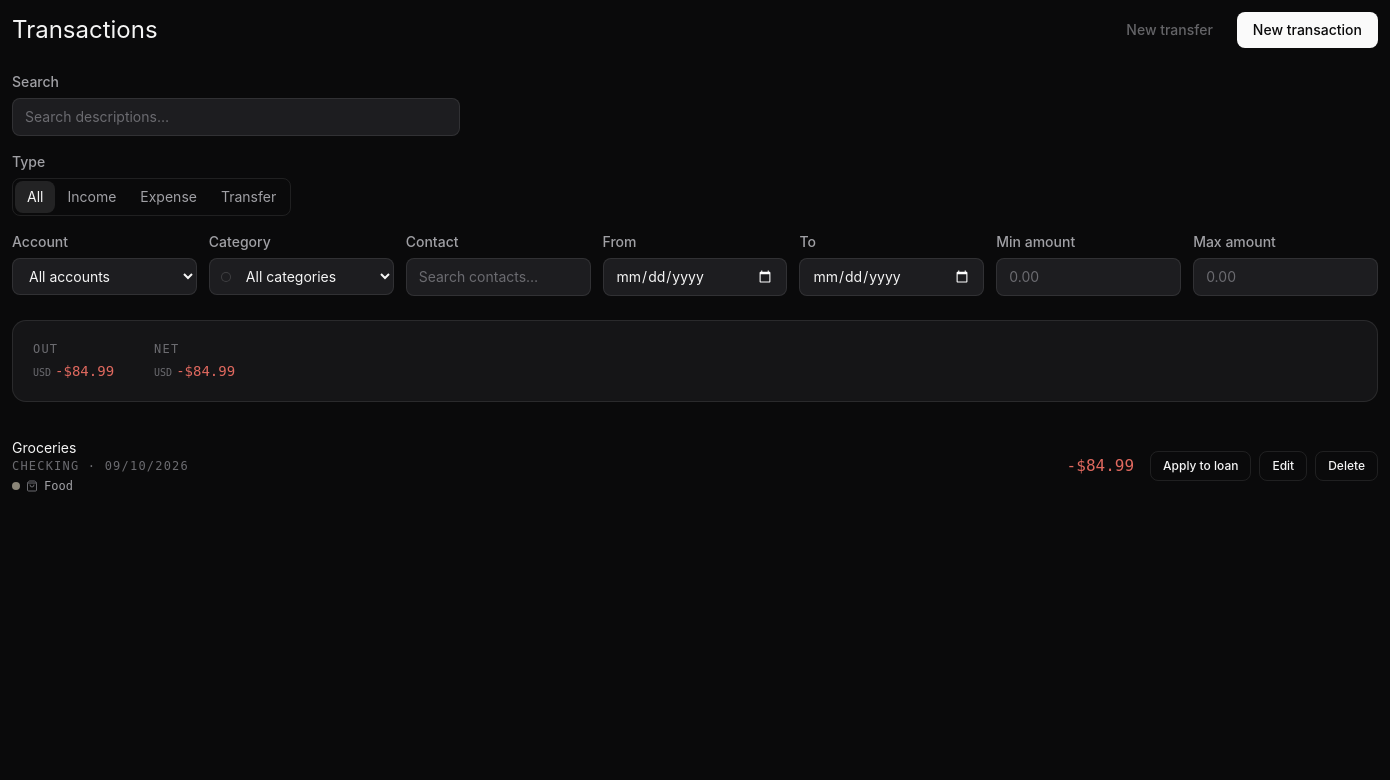
Scenario: TransactionsScreen › soft-deletes a transaction, removing it from the list, and restores it via the toast's Undo action
What coordinates should you click on to do the following:
click the button "Delete"
I would click on:
 (1347, 466)
Its box is [1315, 451, 1378, 481].
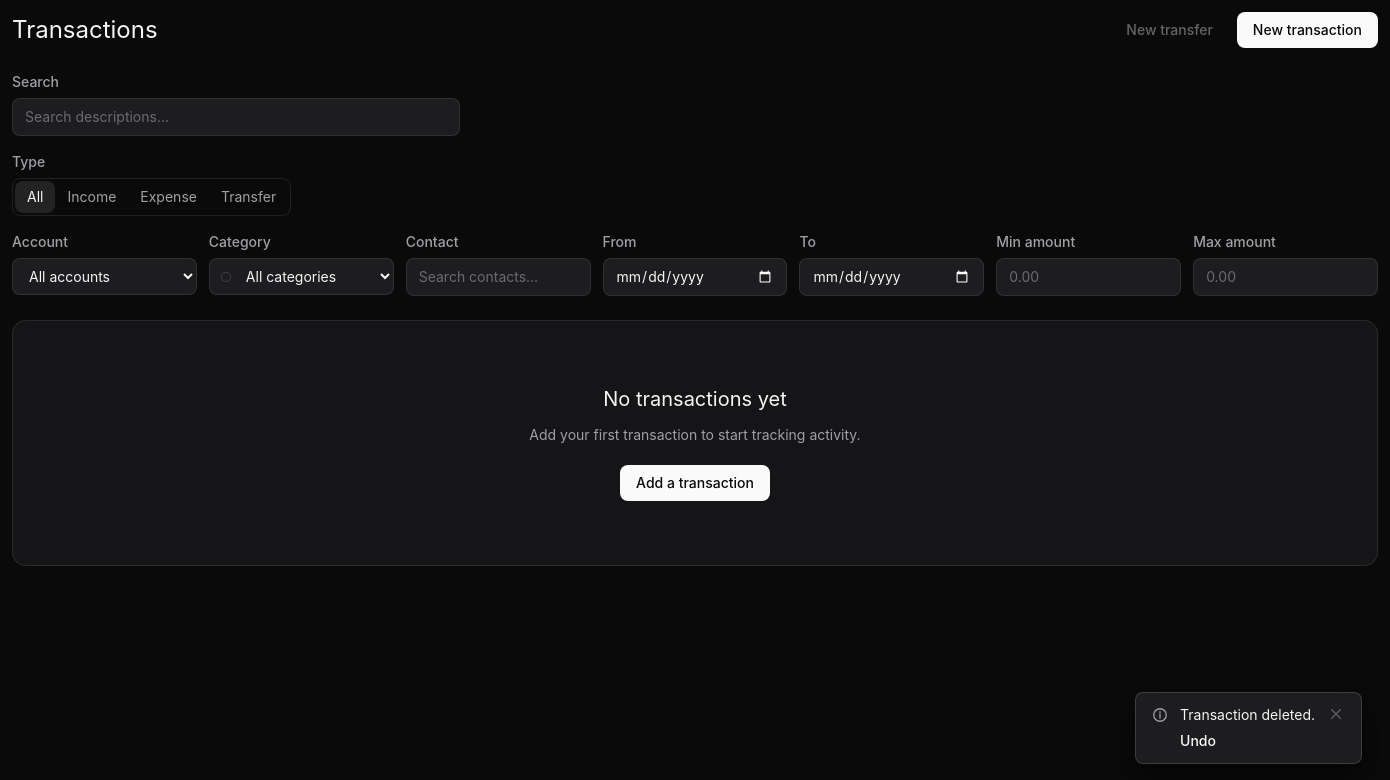
Now the text "Groceries" is gone
What coordinates should you click on to do the following:
click the button "Undo"
I would click on:
 (1198, 741)
Its box is [1180, 731, 1216, 751].
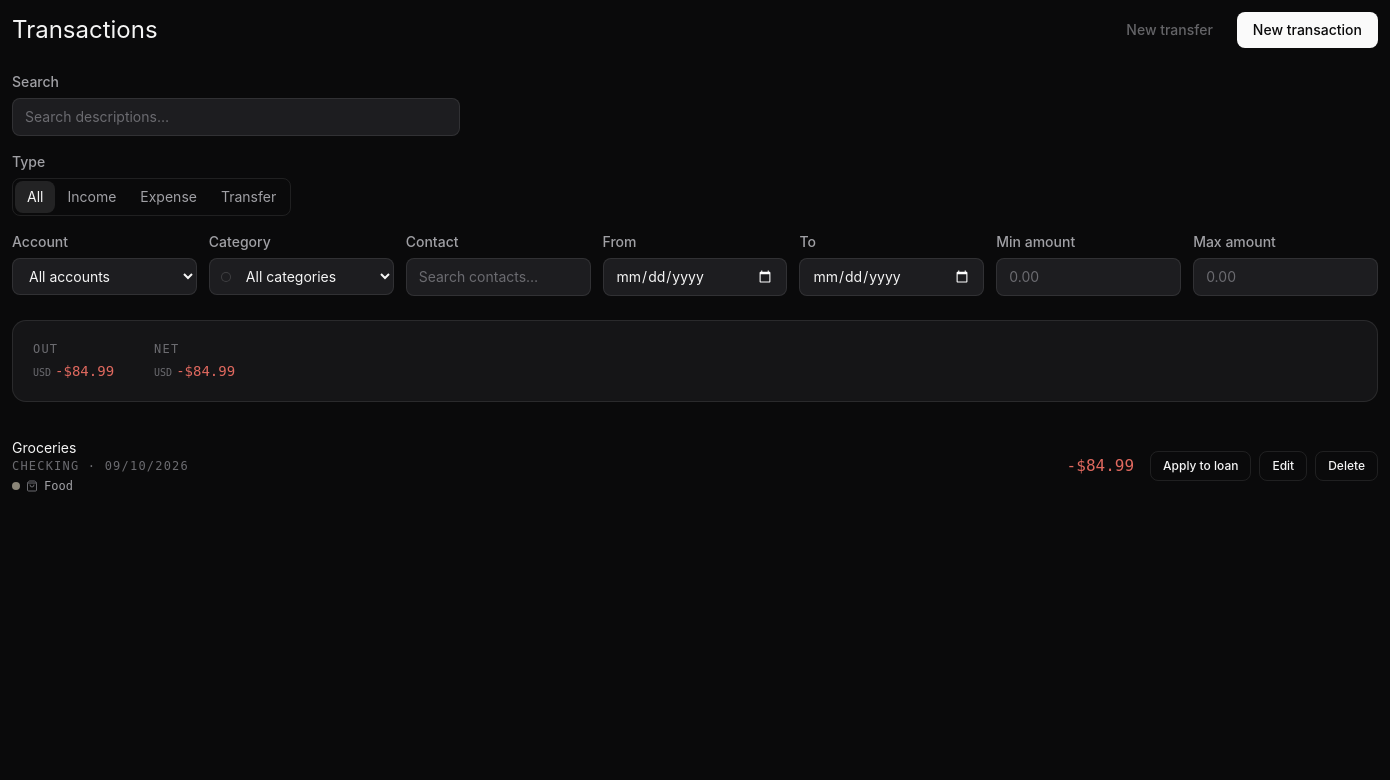
Now the text "Groceries" is shown, box [12, 439, 76, 456]
